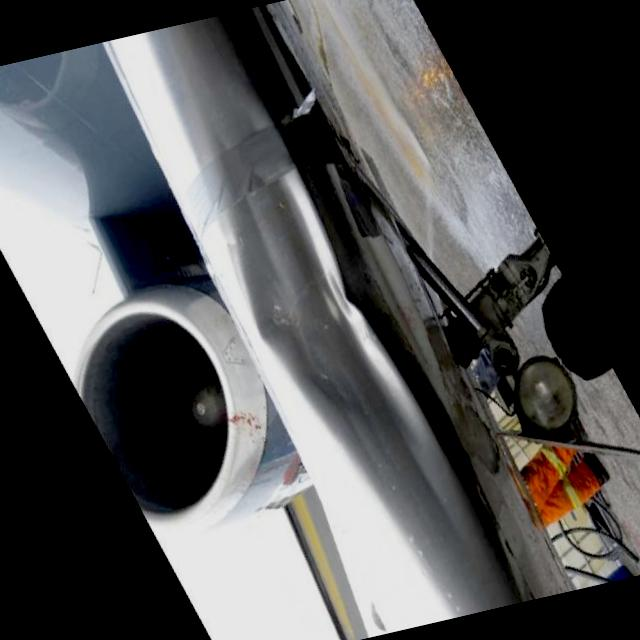dent: (198, 93, 441, 498)
